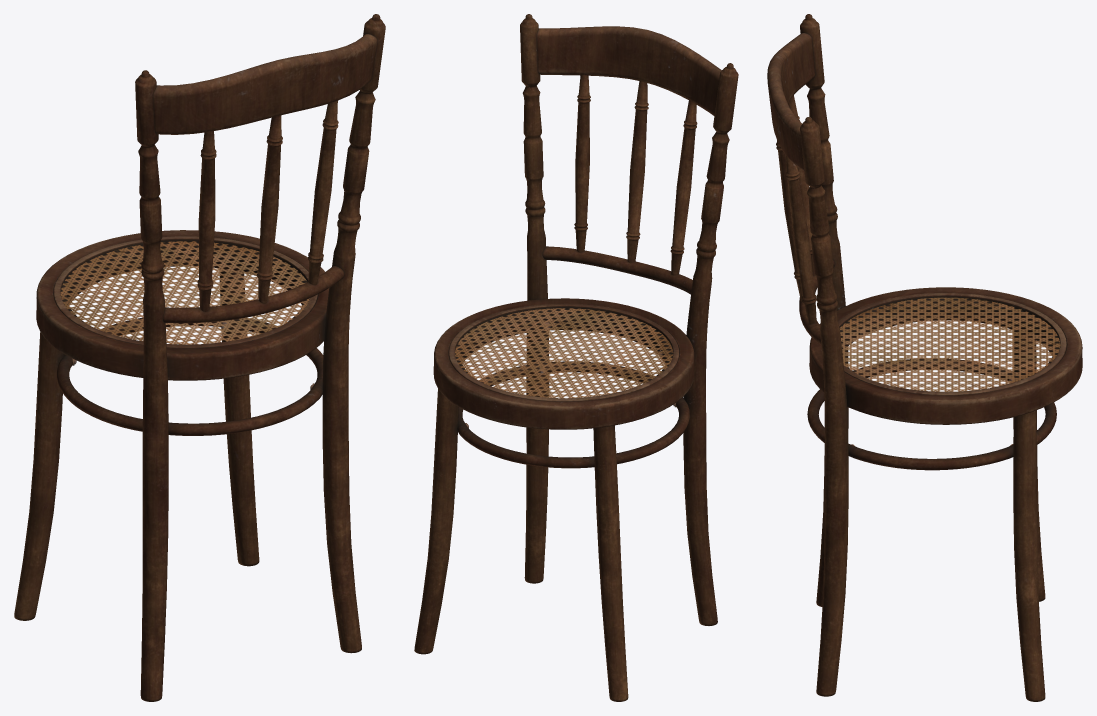
File: chair.glb
The picture shows the model from 3 angles, left to right: view 1: azimuth 30°, elevation 25°; view 2: azimuth 150°, elevation 25°; view 3: azimuth 270°, elevation 25°; orthographic projection. The views are drawn at different scales.
Visible parts, largest first — view 1: Nogi, Obod_sidenie, Setka, Spinka, Perekladini, Obruch, Fixator, Perekladina; view 2: Nogi, Setka, Obod_sidenie, Spinka, Perekladini, Obruch, Fixator, Perekladina; view 3: Nogi, Setka, Obod_sidenie, Obruch, Spinka, Perekladini, Fixator.
Part boxes in pixels (left/top/right/bottom): Nogi: left=14, top=14, right=385, bottom=701; Obod_sidenie: left=36, top=230, right=329, bottom=380; Setka: left=60, top=241, right=309, bottom=344; Spinka: left=153, top=34, right=377, bottom=134; Perekladini: left=197, top=100, right=338, bottom=311; Obruch: left=57, top=317, right=323, bottom=435; Fixator: left=53, top=236, right=317, bottom=348; Perekladina: left=163, top=266, right=344, bottom=323; Nogi: left=414, top=14, right=738, bottom=701; Setka: left=455, top=308, right=673, bottom=398; Obod_sidenie: left=433, top=298, right=694, bottom=429; Spinka: left=536, top=26, right=721, bottom=115; Perekladini: left=574, top=74, right=697, bottom=275; Obruch: left=457, top=361, right=689, bottom=468; Fixator: left=449, top=303, right=679, bottom=401; Perekladina: left=542, top=246, right=692, bottom=294; Nogi: left=800, top=14, right=1045, bottom=701; Setka: left=840, top=297, right=1060, bottom=391; Obod_sidenie: left=809, top=287, right=1082, bottom=424; Obruch: left=807, top=358, right=1056, bottom=470; Spinka: left=767, top=33, right=815, bottom=170; Perekladini: left=776, top=95, right=816, bottom=324; Fixator: left=838, top=293, right=1066, bottom=395.
Size of the model in its own units: 0.4236 by 0.996 by 0.489.
Materials: 1 (1 with a texture image).
